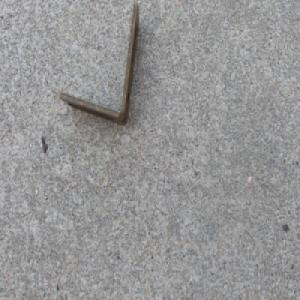MetalPart: (58, 0, 141, 127)
